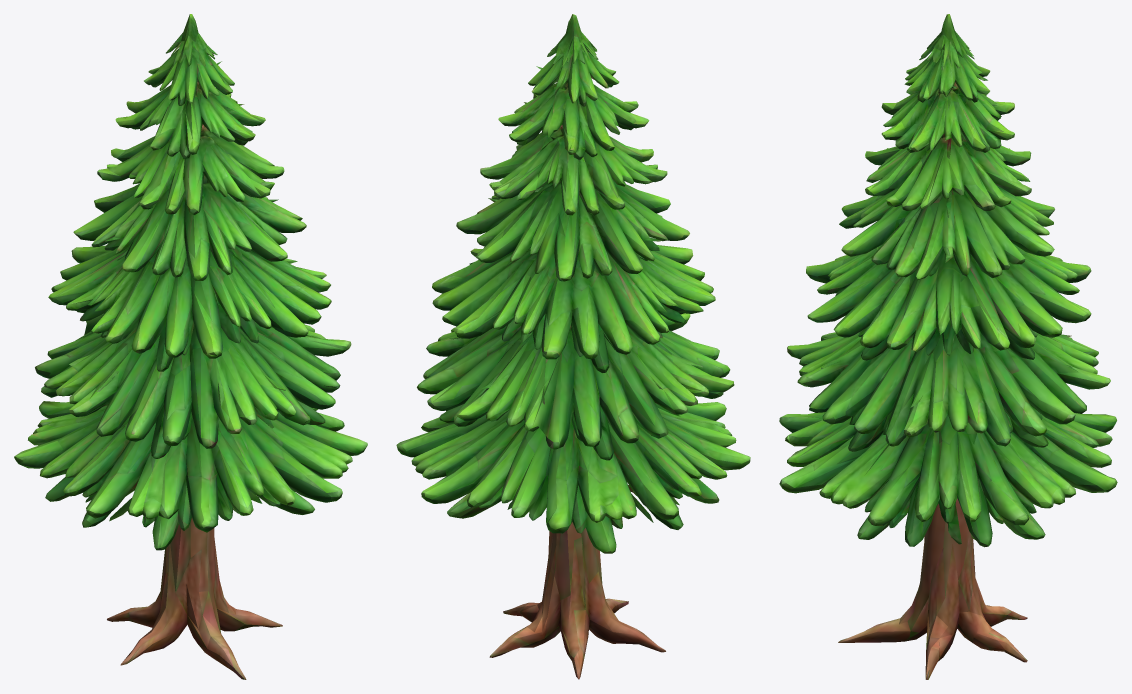
File: prop-pine.glb
The picture shows the model from 3 angles, left to right: view 1: azimuth 30°, elevation 25°; view 2: azimuth 150°, elevation 25°; view 3: azimuth 270°, elevation 25°; orthographic projection.
Bounding box in the file's own units: 0.8912 × 1.9 × 0.924.
1 material, 1 textured.
